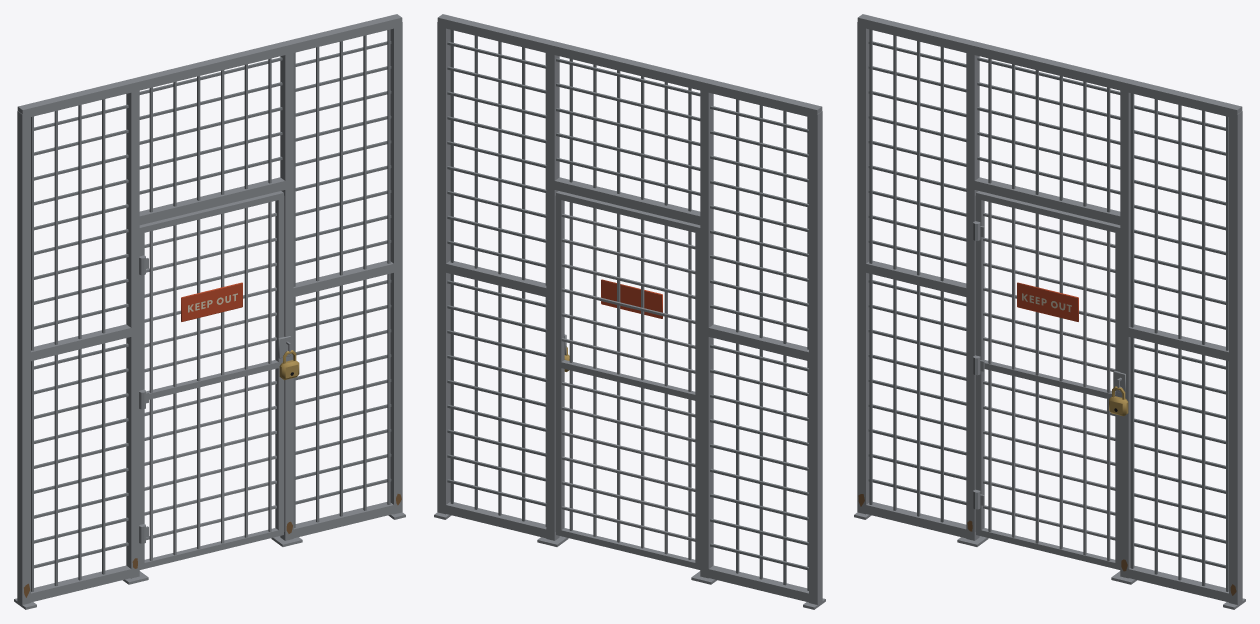
Rendered from Basement_StorageCage.fbx.
3 renders of one model, left to right at view 1: azimuth 30°, elevation 25°; view 2: azimuth 150°, elevation 25°; view 3: azimuth 330°, elevation 25°, orthographic.
Parts seen in each view (by area): view 1: Frame, Grid, Gate, Sign; view 2: Frame, Grid, Gate, Sign; view 3: Frame, Grid, Gate, Sign.
Part boxes in pixels (x1,y1,x2,y2): Frame: (14,14,405,609); Grid: (31,29,391,591); Gate: (139,191,290,569); Sign: (181,282,242,321); Frame: (434,14,825,609); Grid: (447,30,808,590); Gate: (555,191,700,569); Sign: (601,279,662,318); Frame: (854,14,1245,609); Grid: (868,29,1228,591); Gate: (973,191,1125,569); Sign: (1017,282,1078,321).
Bounding box in the file's own units: 800 × 1000 × 50.68.
